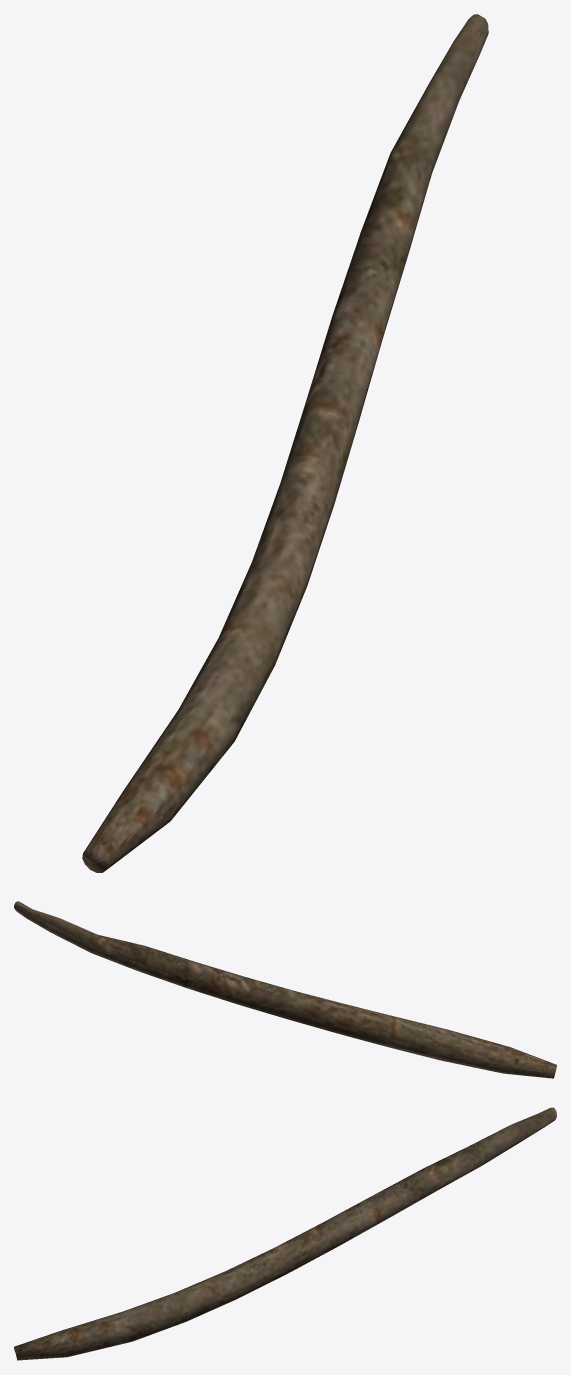
3 views of the same model, one above another, from view 1: azimuth 30°, elevation 25°; view 2: azimuth 150°, elevation 25°; view 3: azimuth 330°, elevation 25° (orthographic). The views are drawn at different scales.
Visible parts, largest first — view 1: G-Line003.010; view 2: G-Line003.010; view 3: G-Line003.010.
Boxes of the visible parts, x1,y1,x2,y2 form: G-Line003.010: (82, 14, 488, 872); G-Line003.010: (14, 901, 556, 1078); G-Line003.010: (14, 1107, 556, 1360).
Size of the model in its own units: 0.9392 by 0.5157 by 0.7773.
1 material, 1 textured.
